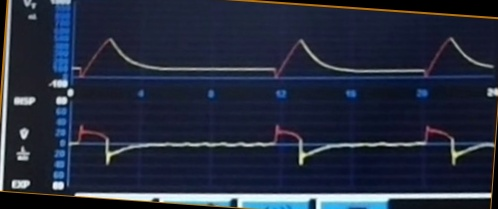Flow: (72, 116, 493, 173)
Leakage Volume: (74, 22, 493, 83)
